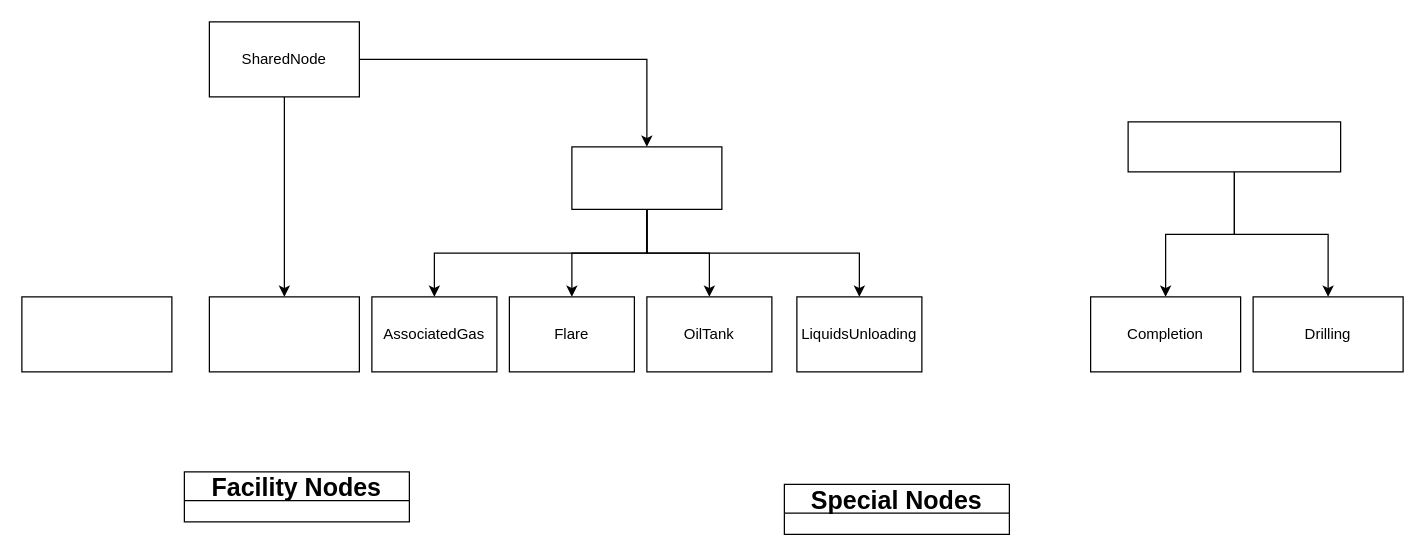
This 1425x556 diagram has some shape labels left out. Here are the shapes that lost their labels. From the top down, the centre of each, then its label:
(x=1234, y=146): DevelopmentSharedNode
(x=646, y=177): StreamSharedNode
(x=96, y=334): Facility
(x=283, y=334): well_group
